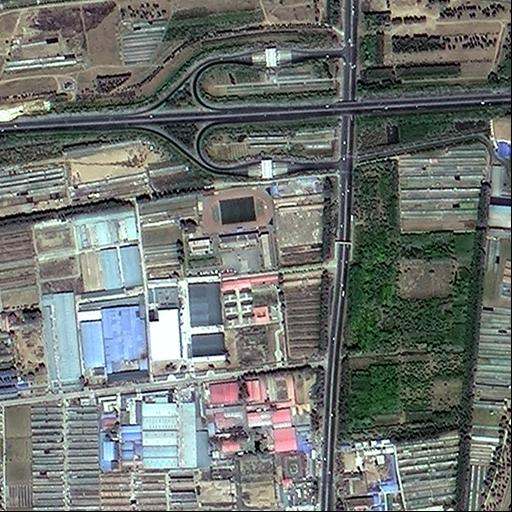school: (180, 183, 282, 272)
